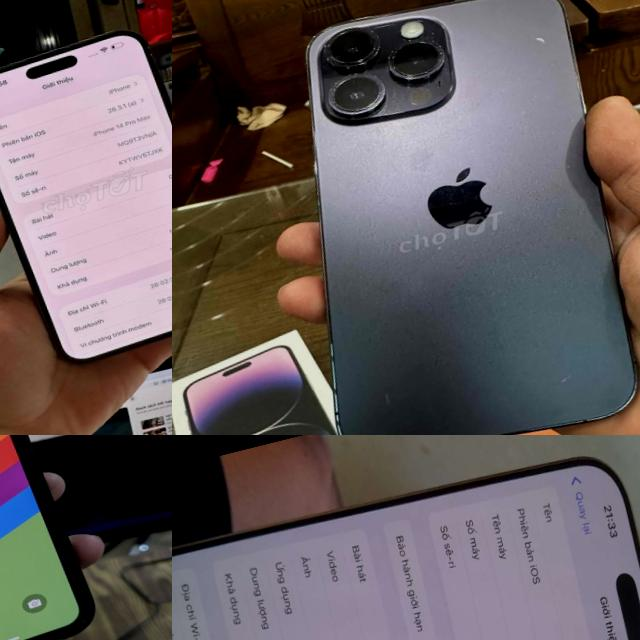scratch: (308, 2, 462, 132), (552, 362, 584, 387), (531, 30, 558, 54), (379, 386, 398, 410)
